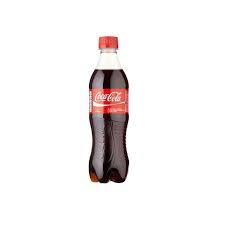coca_cola_bottle: (88, 36, 130, 182)
